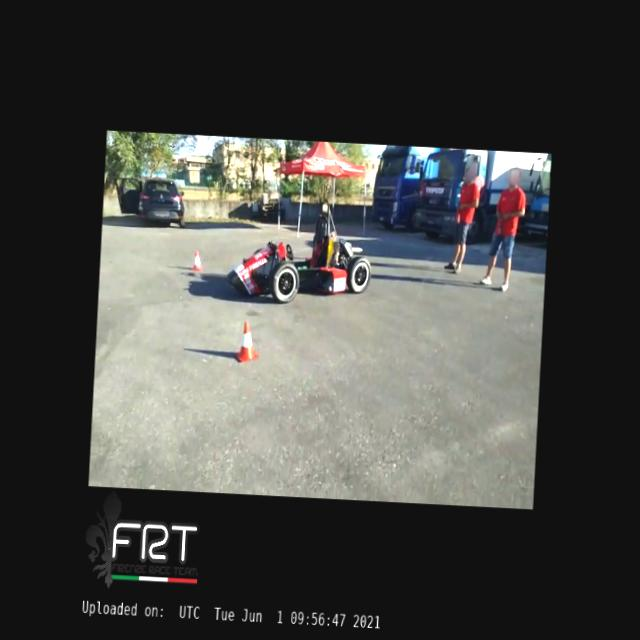orange_cone: (234, 322, 260, 362), (191, 250, 204, 272)
